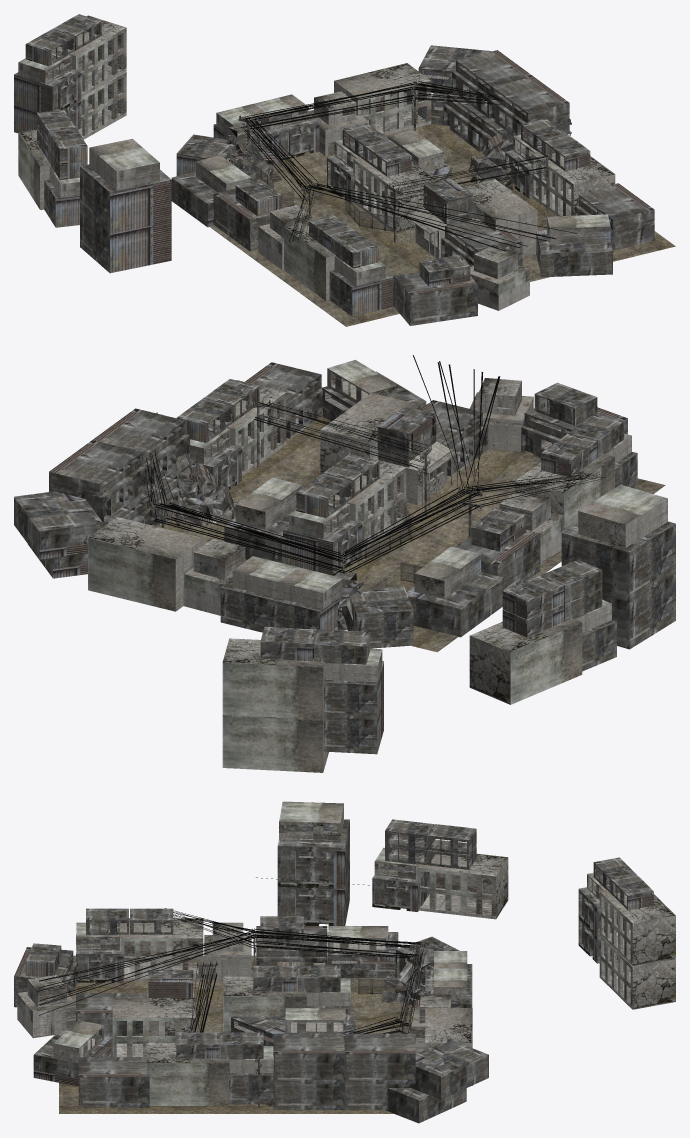
The model's file is abandoned_city_street_for_games.glb.
The picture shows the model from 3 angles, top to bottom: view 1: azimuth 30°, elevation 25°; view 2: azimuth 150°, elevation 25°; view 3: azimuth 270°, elevation 25°; orthographic projection. The views are drawn at different scales.
Visible parts, largest first — view 1: Plane.002, Cube.039, Cube.059, Cube.061, Cube.026, Cube.042, Cube.022, Cube.014, Cube.032, Cube.015, Cube.044, Cube.047 (+54 smaller); view 2: Plane.002, Cube.039, Cube.052, Cube.047, Cube.067, Cube.059, Cube.023, Cube.041, Cube.060, Cube.005, Cube.022, Cube.032 (+56 smaller); view 3: Plane.002, Cube.052, Cube.015, Cube, Cube.047, Cube.059, Cube.022, Cube.023, Cube.014, Cube.032, Cube.041, Cube.067 (+53 smaller).
Boxes of the visible parts, bbox=[...] form: Plane.002: bbox=[209, 124, 675, 326]; Cube.039: bbox=[334, 63, 431, 135]; Cube.059: bbox=[80, 164, 171, 233]; Cube.061: bbox=[80, 205, 171, 273]; Cube.026: bbox=[353, 157, 436, 232]; Cube.042: bbox=[393, 272, 477, 325]; Cube.022: bbox=[488, 76, 569, 135]; Cube.014: bbox=[575, 183, 654, 250]; Cube.032: bbox=[462, 179, 537, 256]; Cube.015: bbox=[531, 151, 615, 216]; Cube.044: bbox=[470, 244, 529, 310]; Cube.047: bbox=[54, 15, 126, 96]; Plane.002: bbox=[158, 416, 665, 652]; Cube.039: bbox=[88, 517, 204, 611]; Cube.052: bbox=[469, 618, 582, 704]; Cube.047: bbox=[222, 638, 325, 719]; Cube.067: bbox=[222, 715, 328, 772]; Cube.059: bbox=[561, 521, 675, 602]; Cube.023: bbox=[49, 440, 146, 522]; Cube.041: bbox=[14, 491, 103, 559]; Cube.060: bbox=[578, 484, 667, 547]; Cube.005: bbox=[406, 572, 503, 637]; Cube.022: bbox=[92, 408, 189, 489]; Cube.032: bbox=[320, 393, 420, 474]; Plane.002: bbox=[59, 955, 418, 1113]; Cube.052: bbox=[416, 853, 508, 919]; Cube.015: bbox=[146, 1043, 229, 1105]; Cube: bbox=[120, 918, 203, 980]; Cube.047: bbox=[599, 890, 675, 966]; Cube.059: bbox=[277, 819, 349, 888]; Cube.022: bbox=[273, 1033, 344, 1084]; Cube.023: bbox=[345, 1033, 415, 1084]; Cube.014: bbox=[78, 1057, 149, 1107]; Cube.032: bbox=[112, 997, 195, 1056]; Cube.041: bbox=[409, 1039, 488, 1099]; Cube.067: bbox=[599, 936, 675, 1009].
Size of the model in its own units: 22.76 by 5.51 by 28.
6 materials, 5 textured.
